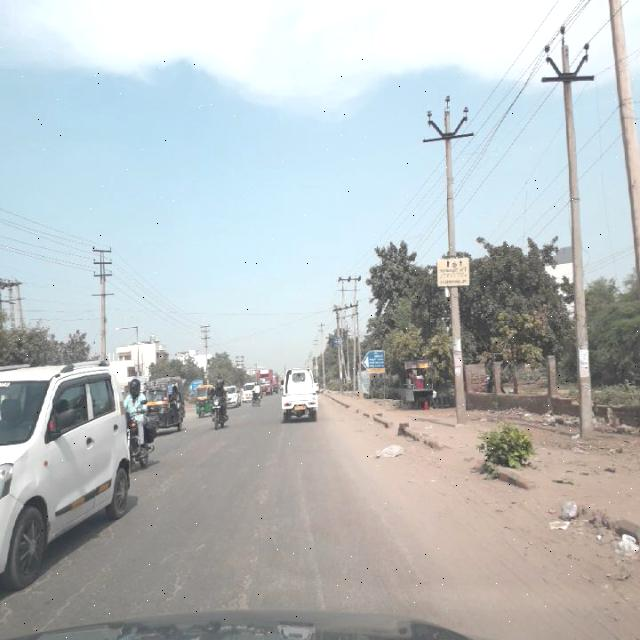D00: (304, 467, 329, 617), (47, 564, 103, 628), (166, 547, 192, 616)
